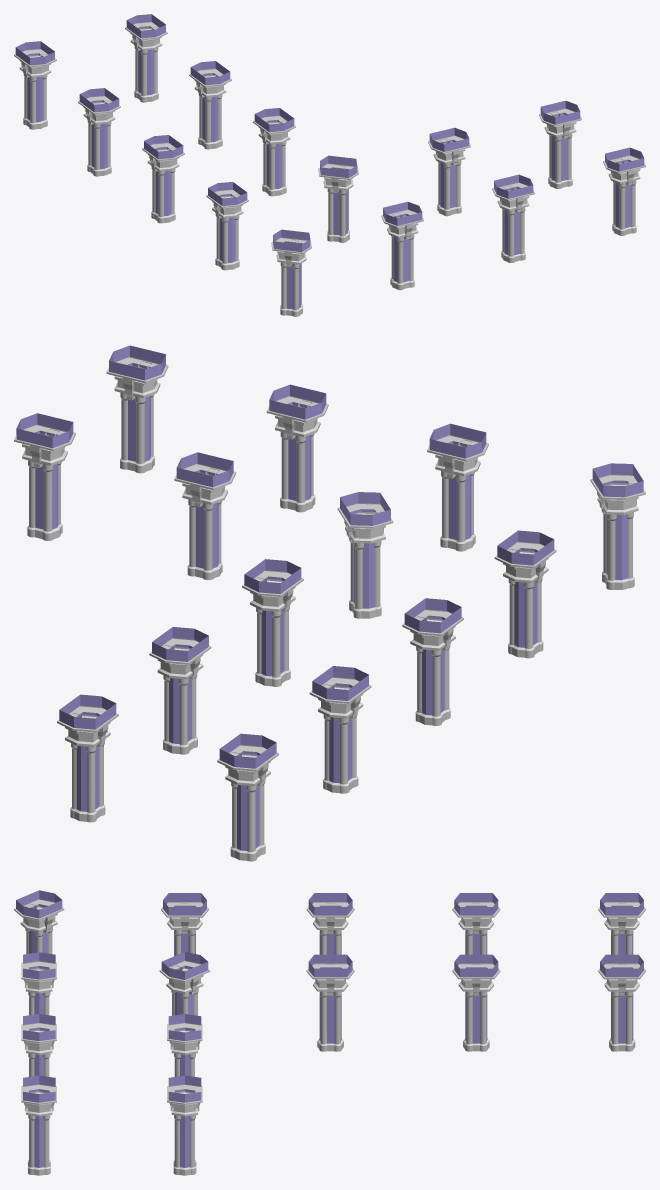
Rendered from Entrance Pillars.fbx.
3 renders of one model, top to bottom at view 1: azimuth 30°, elevation 25°; view 2: azimuth 150°, elevation 25°; view 3: azimuth 270°, elevation 25°, orthographic. The views are drawn at different scales.
Visible parts, largest first — view 1: pillar_LOD0.005, pillar_LOD0.001, pillar_LOD0.004, pillar_LOD0.002, pillar_LOD0.003, pillar_LOD0.010, pillar_LOD0.012, pillar_LOD0.011, pillar_LOD0.009, pillar_LOD0.013, pillar_LOD0.008, pillar_LOD0.014 (+2 smaller); view 2: pillar_LOD0.005, pillar_LOD0.002, pillar_LOD0.001, pillar_LOD0.014, pillar_LOD0.008, pillar_LOD0.003, pillar_LOD0.004, pillar_LOD0.009, pillar_LOD0.012, pillar_LOD0.011, pillar_LOD0.013, pillar_LOD0.010 (+2 smaller); view 3: pillar_LOD0.010, pillar_LOD0.012, pillar_LOD0.013, pillar_LOD0.004, pillar_LOD0.001, pillar_LOD0.007, pillar_LOD0.006, pillar_LOD0.009, pillar_LOD0.011, pillar_LOD0.014, pillar_LOD0.008, pillar_LOD0.005 (+2 smaller).
Boxes of the visible parts, box(x1,y1,x2,y2) form: pillar_LOD0.005: box(428, 127, 470, 216); pillar_LOD0.001: box(603, 147, 645, 235); pillar_LOD0.004: box(539, 100, 581, 188); pillar_LOD0.002: box(492, 174, 534, 262); pillar_LOD0.003: box(381, 201, 423, 290); pillar_LOD0.010: box(253, 108, 295, 196); pillar_LOD0.012: box(189, 61, 231, 149); pillar_LOD0.011: box(78, 88, 120, 176); pillar_LOD0.009: box(142, 135, 184, 223); pillar_LOD0.013: box(125, 14, 167, 102); pillar_LOD0.008: box(206, 182, 248, 270); pillar_LOD0.014: box(14, 41, 56, 129); pillar_LOD0.005: box(174, 452, 236, 579); pillar_LOD0.002: box(266, 384, 328, 512); pillar_LOD0.001: box(106, 345, 168, 473); pillar_LOD0.014: box(217, 733, 278, 861); pillar_LOD0.008: box(494, 530, 556, 658); pillar_LOD0.003: box(427, 423, 488, 551); pillar_LOD0.004: box(14, 413, 75, 540); pillar_LOD0.009: box(402, 598, 463, 725); pillar_LOD0.012: box(149, 627, 211, 754); pillar_LOD0.011: box(309, 666, 371, 793); pillar_LOD0.013: box(57, 694, 118, 822); pillar_LOD0.010: box(242, 559, 303, 686); pillar_LOD0.010: box(306, 954, 354, 1051); pillar_LOD0.012: box(452, 954, 500, 1051); pillar_LOD0.013: box(598, 954, 645, 1051); pillar_LOD0.004: box(167, 1075, 202, 1175); pillar_LOD0.001: box(21, 1075, 56, 1175); pillar_LOD0.007: box(14, 890, 64, 953); pillar_LOD0.006: box(159, 952, 210, 1015); pillar_LOD0.009: box(306, 893, 354, 954); pillar_LOD0.011: box(452, 893, 500, 954); pillar_LOD0.014: box(598, 893, 645, 954); pillar_LOD0.008: box(161, 893, 208, 956); pillar_LOD0.005: box(167, 1014, 202, 1076).
Size of what is drawn, in the model's own units: 3337 by 647 by 4337.
